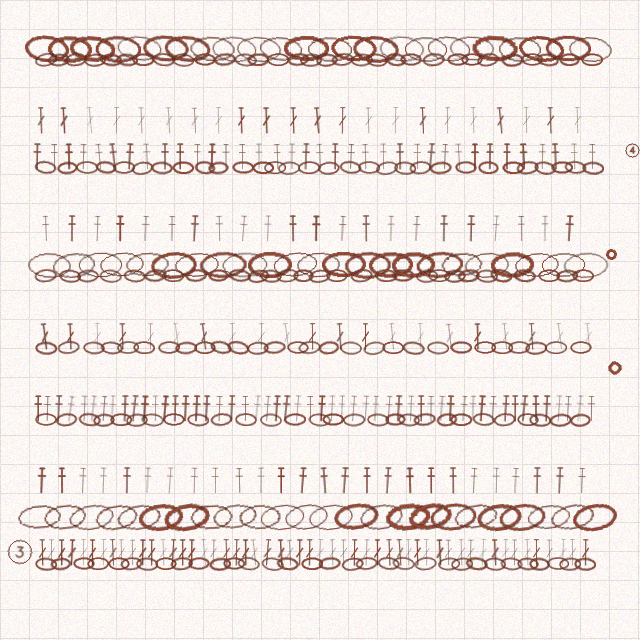chain: (547, 499, 597, 534), (406, 499, 455, 534), (66, 500, 116, 534), (570, 500, 620, 534), (114, 500, 163, 534), (162, 500, 211, 534), (92, 500, 140, 534), (210, 500, 259, 533), (282, 500, 331, 533), (332, 500, 381, 533), (357, 500, 406, 533), (451, 500, 500, 533), (517, 33, 566, 65), (306, 501, 355, 533), (475, 501, 524, 533), (498, 501, 547, 533), (50, 249, 98, 281), (137, 501, 185, 533), (258, 501, 306, 533), (525, 501, 573, 533), (115, 33, 164, 64), (271, 249, 320, 280), (429, 501, 478, 532), (23, 33, 71, 64), (425, 33, 473, 64), (163, 34, 212, 64), (415, 250, 464, 280), (41, 501, 88, 532), (384, 501, 431, 532), (68, 34, 116, 64), (210, 34, 258, 64), (235, 34, 283, 64), (257, 34, 305, 64), (513, 250, 561, 280), (15, 502, 63, 532), (352, 34, 399, 64), (150, 250, 197, 280), (173, 250, 220, 280), (463, 250, 510, 280), (188, 34, 236, 63), (330, 34, 378, 63), (567, 34, 613, 64), (142, 34, 189, 63), (378, 34, 425, 63), (448, 34, 495, 63), (471, 34, 518, 63), (98, 250, 145, 279), (124, 250, 171, 279), (199, 251, 247, 279), (344, 251, 392, 279), (562, 251, 610, 279), (295, 250, 341, 279), (439, 250, 485, 279), (188, 502, 234, 531), (237, 502, 283, 531), (306, 35, 353, 63), (221, 251, 268, 279), (47, 35, 93, 63), (95, 35, 141, 63), (403, 35, 449, 63), (497, 35, 543, 63), (26, 251, 72, 279), (368, 251, 414, 279), (540, 251, 586, 279), (391, 251, 436, 279), (490, 251, 535, 279), (283, 35, 329, 62), (545, 35, 591, 62), (77, 251, 123, 278), (247, 251, 293, 278), (321, 251, 367, 278), (34, 51, 58, 68), (476, 51, 500, 68), (489, 267, 513, 284), (209, 339, 233, 356), (226, 339, 250, 356), (375, 160, 399, 176), (533, 160, 557, 176), (536, 52, 559, 68), (131, 160, 154, 176), (247, 268, 270, 284), (308, 268, 331, 284), (363, 340, 386, 356), (402, 340, 425, 356), (261, 556, 284, 572), (341, 556, 364, 572), (64, 52, 87, 67), (152, 52, 175, 67), (213, 52, 236, 67), (287, 52, 310, 67), (331, 52, 354, 67), (422, 52, 445, 67), (34, 160, 57, 175), (339, 160, 362, 175), (409, 160, 432, 175), (516, 160, 539, 175), (564, 160, 587, 175), (34, 268, 57, 283), (144, 268, 167, 283), (185, 268, 208, 283), (228, 268, 251, 283), (276, 268, 299, 283), (350, 268, 373, 283), (457, 268, 480, 283), (513, 268, 536, 283), (57, 340, 80, 355), (263, 340, 286, 355), (298, 340, 321, 355), (55, 412, 78, 427), (78, 412, 101, 427), (210, 412, 233, 427), (413, 412, 436, 427), (472, 412, 495, 427), (493, 412, 516, 427), (120, 556, 143, 571), (170, 556, 193, 571), (237, 556, 260, 571), (276, 556, 299, 571), (318, 556, 341, 571), (355, 556, 378, 571), (377, 556, 400, 571), (392, 556, 415, 571), (414, 556, 437, 571), (465, 556, 488, 571), (385, 52, 407, 67), (95, 160, 117, 175), (194, 160, 216, 175), (318, 340, 340, 355), (436, 412, 458, 427), (234, 53, 257, 67), (501, 53, 524, 67), (429, 161, 452, 175), (99, 269, 122, 283), (123, 269, 146, 283), (100, 341, 123, 355), (141, 413, 164, 427), (308, 413, 331, 427), (549, 413, 572, 427), (500, 557, 523, 571), (48, 53, 70, 67), (84, 53, 106, 67), (100, 53, 122, 67), (116, 53, 138, 67), (172, 53, 194, 67), (300, 53, 322, 67), (316, 53, 338, 67), (351, 53, 373, 67), (366, 53, 388, 67), (151, 161, 173, 175), (278, 161, 300, 175), (318, 161, 340, 175), (394, 161, 416, 175), (582, 161, 604, 175), (59, 269, 81, 283), (77, 269, 99, 283), (260, 269, 282, 283), (416, 269, 438, 283), (444, 269, 466, 283), (476, 269, 498, 283), (556, 269, 578, 283), (35, 341, 57, 355), (83, 341, 105, 355), (175, 341, 197, 355), (247, 341, 269, 355), (340, 341, 362, 355), (427, 341, 449, 355), (525, 341, 547, 355), (93, 413, 115, 427), (126, 413, 148, 427), (187, 413, 209, 427), (260, 413, 282, 427), (343, 413, 365, 427), (367, 413, 389, 427), (398, 413, 420, 427), (529, 413, 551, 427), (35, 557, 57, 571), (50, 557, 72, 571), (136, 557, 158, 571), (209, 557, 231, 571), (438, 557, 460, 571), (451, 557, 473, 571), (484, 557, 506, 571), (517, 557, 539, 571), (559, 557, 581, 571), (574, 557, 596, 571), (57, 161, 78, 175), (208, 161, 229, 175), (570, 413, 591, 427), (529, 557, 550, 571), (132, 53, 154, 66), (194, 53, 216, 66), (247, 53, 269, 66), (267, 53, 289, 66), (400, 53, 422, 66), (447, 53, 469, 66), (461, 53, 483, 66), (521, 53, 543, 66), (581, 53, 603, 66), (76, 161, 98, 174), (113, 161, 135, 174), (172, 161, 194, 174), (232, 161, 254, 174), (252, 161, 274, 174), (264, 161, 286, 174), (298, 161, 320, 174), (358, 161, 380, 174), (455, 161, 477, 174), (502, 161, 524, 174), (551, 161, 573, 174), (162, 269, 184, 282), (326, 269, 348, 282), (375, 269, 397, 282), (392, 269, 414, 282), (428, 269, 450, 282), (538, 269, 560, 282), (572, 269, 594, 282), (117, 341, 139, 354), (133, 341, 155, 354), (158, 341, 180, 354), (194, 341, 216, 354), (287, 341, 309, 354), (382, 341, 404, 354), (450, 341, 472, 354), (474, 341, 496, 354), (491, 341, 513, 354), (508, 341, 530, 354), (545, 341, 567, 354), (570, 341, 592, 354), (35, 413, 57, 426), (110, 413, 132, 426), (163, 413, 185, 426), (235, 413, 257, 426), (284, 413, 306, 426), (322, 413, 344, 426), (450, 413, 472, 426), (517, 413, 539, 426), (73, 557, 95, 570), (87, 557, 109, 570), (108, 557, 130, 570), (155, 557, 177, 570), (188, 557, 210, 570), (223, 557, 245, 570), (301, 557, 323, 570), (547, 557, 569, 570), (559, 53, 580, 66), (478, 161, 499, 174), (208, 269, 229, 282), (293, 269, 314, 282), (385, 413, 406, 426)
double: (39, 323, 51, 350), (171, 323, 183, 350), (198, 323, 210, 350), (281, 323, 293, 350), (444, 323, 456, 350), (554, 323, 566, 350), (85, 107, 96, 134), (312, 107, 323, 134), (495, 107, 506, 134), (387, 323, 398, 350), (500, 323, 511, 350), (583, 323, 594, 350), (199, 539, 210, 566), (249, 539, 260, 566), (262, 539, 273, 566), (36, 107, 46, 134), (59, 107, 69, 134), (164, 107, 174, 134), (190, 107, 200, 134), (418, 107, 428, 134), (335, 323, 345, 350), (527, 323, 537, 350), (67, 539, 77, 566), (108, 539, 118, 566), (168, 539, 178, 566), (276, 539, 286, 566), (285, 539, 295, 566), (315, 539, 325, 566), (395, 539, 405, 566), (435, 539, 445, 566), (478, 539, 488, 566), (490, 539, 500, 566), (558, 539, 568, 566), (112, 107, 121, 134), (137, 107, 146, 134), (214, 107, 223, 134), (237, 107, 246, 134), (262, 107, 271, 134), (289, 107, 298, 134), (338, 107, 347, 134), (364, 107, 373, 134), (391, 107, 400, 134), (443, 107, 452, 134), (469, 107, 478, 134), (522, 107, 531, 134), (546, 107, 555, 134), (573, 107, 582, 134), (66, 323, 75, 350), (93, 323, 102, 350), (118, 323, 127, 350), (146, 323, 155, 350), (228, 323, 237, 350), (257, 323, 266, 350), (308, 323, 317, 350), (361, 323, 370, 350), (416, 323, 425, 350), (473, 323, 482, 350), (38, 539, 47, 566), (47, 539, 56, 566), (57, 539, 66, 566), (79, 539, 88, 566), (88, 539, 97, 566), (99, 539, 108, 566), (117, 539, 126, 566), (128, 539, 137, 566), (138, 539, 147, 566), (147, 539, 156, 566), (159, 539, 168, 566), (178, 539, 187, 566), (187, 539, 196, 566), (209, 539, 218, 566), (222, 539, 231, 566), (232, 539, 241, 566), (241, 539, 250, 566), (295, 539, 304, 566), (305, 539, 314, 566), (328, 539, 337, 566), (339, 539, 348, 566), (350, 539, 359, 566), (362, 539, 371, 566), (373, 539, 382, 566), (385, 539, 394, 566), (404, 539, 413, 566), (413, 539, 422, 566), (422, 539, 431, 566), (444, 539, 453, 566), (457, 539, 466, 566), (466, 539, 475, 566), (501, 539, 510, 566), (510, 539, 519, 566), (523, 539, 532, 566), (532, 539, 541, 566), (545, 539, 554, 566), (568, 539, 577, 566), (581, 539, 590, 566)
half_double: (64, 395, 77, 423), (107, 143, 120, 170), (573, 395, 586, 422), (93, 143, 105, 170), (425, 143, 437, 170), (237, 215, 249, 242), (87, 395, 99, 422), (128, 395, 140, 422), (159, 395, 171, 422), (251, 395, 263, 422), (261, 395, 273, 422), (280, 395, 292, 422), (291, 395, 303, 422), (347, 395, 359, 422), (458, 395, 470, 422), (518, 395, 530, 422), (124, 143, 135, 170), (141, 143, 152, 170), (314, 143, 325, 170), (345, 143, 356, 170), (439, 143, 450, 170), (453, 143, 464, 170), (518, 143, 529, 170), (550, 143, 561, 170), (40, 215, 51, 242), (140, 215, 151, 242), (189, 215, 200, 242), (262, 215, 273, 242), (337, 215, 348, 242), (411, 215, 422, 242), (490, 215, 501, 242), (564, 215, 575, 242), (53, 395, 64, 422), (98, 395, 109, 422), (107, 395, 118, 422), (139, 395, 150, 422), (180, 395, 191, 422), (191, 395, 202, 422), (201, 395, 212, 422), (226, 395, 237, 422), (271, 395, 282, 422), (316, 395, 327, 422), (326, 395, 337, 422), (336, 395, 347, 422), (360, 395, 371, 422), (370, 395, 381, 422), (383, 395, 394, 422), (393, 395, 404, 422), (405, 395, 416, 422), (436, 395, 447, 422), (445, 395, 456, 422), (476, 395, 487, 422), (487, 395, 498, 422), (500, 395, 511, 422), (541, 395, 552, 422), (553, 395, 564, 422), (562, 395, 573, 422), (36, 467, 47, 494), (77, 467, 88, 494), (142, 467, 153, 494), (164, 467, 175, 494), (297, 467, 308, 494), (319, 467, 330, 494), (339, 467, 350, 494), (382, 467, 393, 494), (468, 467, 479, 494), (510, 467, 521, 494), (554, 467, 565, 494), (576, 467, 587, 494), (32, 143, 42, 170), (49, 143, 59, 170), (64, 143, 74, 170), (78, 143, 88, 170), (160, 143, 170, 170), (175, 143, 185, 170), (192, 143, 202, 170), (207, 143, 217, 170), (221, 143, 231, 170), (237, 143, 247, 170), (254, 143, 264, 170), (272, 143, 282, 170), (287, 143, 297, 170), (301, 143, 311, 170), (330, 143, 340, 170), (360, 143, 370, 170), (378, 143, 388, 170), (395, 143, 405, 170), (412, 143, 422, 170), (470, 143, 480, 170), (485, 143, 495, 170), (502, 143, 512, 170), (537, 143, 547, 170), (569, 143, 579, 170), (587, 143, 597, 170), (67, 215, 77, 242), (92, 215, 102, 242), (115, 215, 125, 242), (167, 215, 177, 242), (214, 215, 224, 242), (288, 215, 298, 242), (311, 215, 321, 242), (361, 215, 371, 242), (386, 215, 396, 242), (439, 215, 449, 242), (466, 215, 476, 242), (516, 215, 526, 242), (540, 215, 550, 242), (33, 395, 43, 422), (42, 395, 52, 422), (79, 395, 89, 422), (120, 395, 130, 422), (150, 395, 160, 422), (170, 395, 180, 422), (214, 395, 224, 422), (240, 395, 250, 422), (305, 395, 315, 422), (416, 395, 426, 422), (426, 395, 436, 422), (468, 395, 478, 422), (510, 395, 520, 422), (531, 395, 541, 422), (586, 395, 596, 422), (57, 467, 67, 494), (98, 467, 108, 494), (122, 467, 132, 494), (189, 467, 199, 494), (210, 467, 220, 494), (234, 467, 244, 494), (256, 467, 266, 494), (276, 467, 286, 494), (362, 467, 372, 494), (405, 467, 415, 494), (426, 467, 436, 494), (448, 467, 458, 494), (491, 467, 501, 494), (532, 467, 542, 494)
noise: (5, 537, 34, 566), (623, 141, 640, 159), (606, 359, 623, 376), (605, 248, 617, 260)
